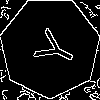Y: (25, 22, 79, 73)
